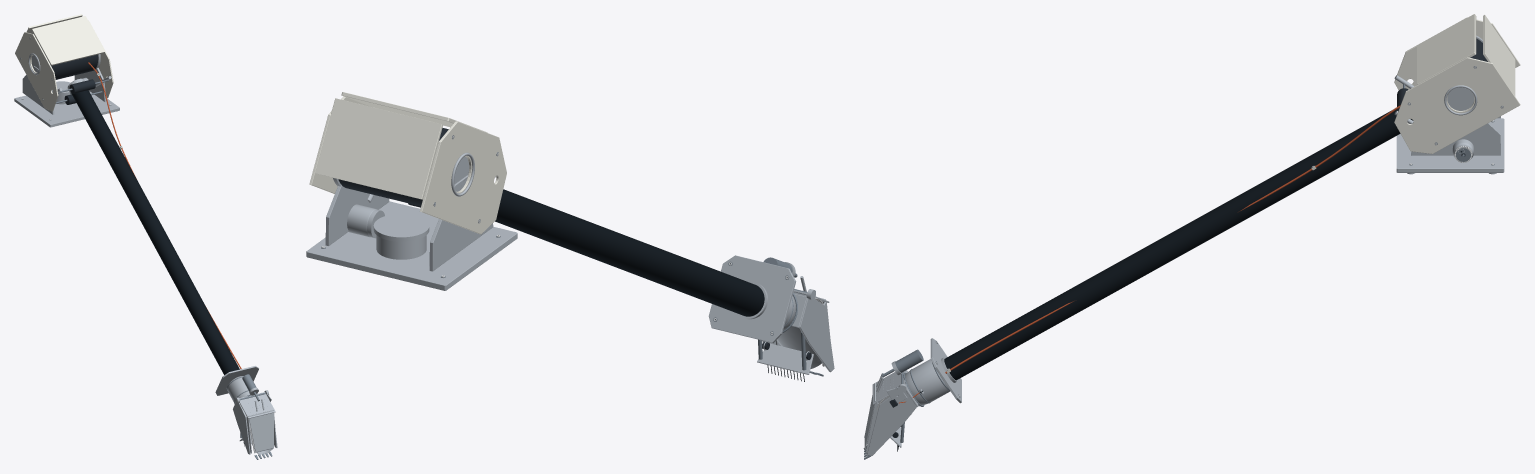
The model's file is viking-sampler.glb.
The picture shows the model from 3 angles, left to right: view 1: azimuth 30°, elevation 25°; view 2: azimuth 150°, elevation 25°; view 3: azimuth 270°, elevation 25°; orthographic projection. The views are drawn at different scales.
Visible parts, largest first — view 1: EXTENDIBLE_BOOM_Optical_baffle, BOOM_FRAME_HOUSING_Viking_white_thermal_enamel, FIXED_DECK_PEDESTAL_Machined_aluminium, INCLINED_LID_JAW_Machined_aluminium, HEAD_ROTATION_HOUSING_Machined_aluminium, BOOM_FRAME_HOUSING_Anodized_aluminium, PRIMARY_2000_MICRON_SIEVE_Machined_aluminium, CURVED_SCOOP_Machined_aluminium, FURLABLE_TUBE_GUIDE_Anodized_aluminium, SAMPLER_LOOM_Viking_orange_cable_service_harness; view 2: BOOM_FRAME_HOUSING_Viking_white_thermal_enamel, FIXED_DECK_PEDESTAL_Machined_aluminium, EXTENDIBLE_BOOM_Optical_baffle, HEAD_ROTATION_HOUSING_Machined_aluminium, CURVED_SCOOP_Machined_aluminium, BACKHOE_AND_BRUSH_Machined_aluminium, BOOM_FRAME_HOUSING_Anodized_aluminium, BOOM_FRAME_HOUSING_Machined_aluminium, BOOM_DRIVE_FIXED_SHELL_Machined_aluminium; view 3: EXTENDIBLE_BOOM_Optical_baffle, BOOM_FRAME_HOUSING_Viking_white_thermal_enamel, FIXED_DECK_PEDESTAL_Machined_aluminium, HEAD_ROTATION_HOUSING_Machined_aluminium, CURVED_SCOOP_Machined_aluminium, BOOM_FRAME_HOUSING_Machined_aluminium, SAMPLER_LOOM_Viking_orange_cable_service_harness.
Part boxes in pixels (<box>): EXTENDIBLE_BOOM_Optical_baffle: <box>71,90,239,374</box>; BOOM_FRAME_HOUSING_Viking_white_thermal_enamel: <box>15,14,113,111</box>; FIXED_DECK_PEDESTAL_Machined_aluminium: <box>14,66,119,127</box>; INCLINED_LID_JAW_Machined_aluminium: <box>246,410,276,453</box>; HEAD_ROTATION_HOUSING_Machined_aluminium: <box>215,366,258,403</box>; BOOM_FRAME_HOUSING_Anodized_aluminium: <box>50,54,97,79</box>; PRIMARY_2000_MICRON_SIEVE_Machined_aluminium: <box>239,392,275,418</box>; CURVED_SCOOP_Machined_aluminium: <box>233,402,277,454</box>; FURLABLE_TUBE_GUIDE_Anodized_aluminium: <box>64,79,95,104</box>; SAMPLER_LOOM_Viking_orange_cable_service_harness: <box>88,62,241,368</box>; BOOM_FRAME_HOUSING_Viking_white_thermal_enamel: <box>309,92,506,234</box>; FIXED_DECK_PEDESTAL_Machined_aluminium: <box>306,175,517,290</box>; EXTENDIBLE_BOOM_Optical_baffle: <box>495,189,764,316</box>; HEAD_ROTATION_HOUSING_Machined_aluminium: <box>708,255,796,343</box>; CURVED_SCOOP_Machined_aluminium: <box>762,294,834,372</box>; BACKHOE_AND_BRUSH_Machined_aluminium: <box>757,343,813,374</box>; BOOM_FRAME_HOUSING_Anodized_aluminium: <box>338,128,479,221</box>; BOOM_FRAME_HOUSING_Machined_aluminium: <box>333,152,474,196</box>; BOOM_DRIVE_FIXED_SHELL_Machined_aluminium: <box>347,204,375,237</box>; EXTENDIBLE_BOOM_Optical_baffle: <box>944,109,1413,380</box>; BOOM_FRAME_HOUSING_Viking_white_thermal_enamel: <box>1394,14,1520,153</box>; FIXED_DECK_PEDESTAL_Machined_aluminium: <box>1396,116,1504,174</box>; HEAD_ROTATION_HOUSING_Machined_aluminium: <box>905,338,961,406</box>; CURVED_SCOOP_Machined_aluminium: <box>863,370,918,455</box>; BOOM_FRAME_HOUSING_Machined_aluminium: <box>1444,35,1482,115</box>; SAMPLER_LOOM_Viking_orange_cable_service_harness: <box>945,105,1400,373</box>.
Bounding box in the file's own units: 0.3087 × 1.17 × 1.66.
